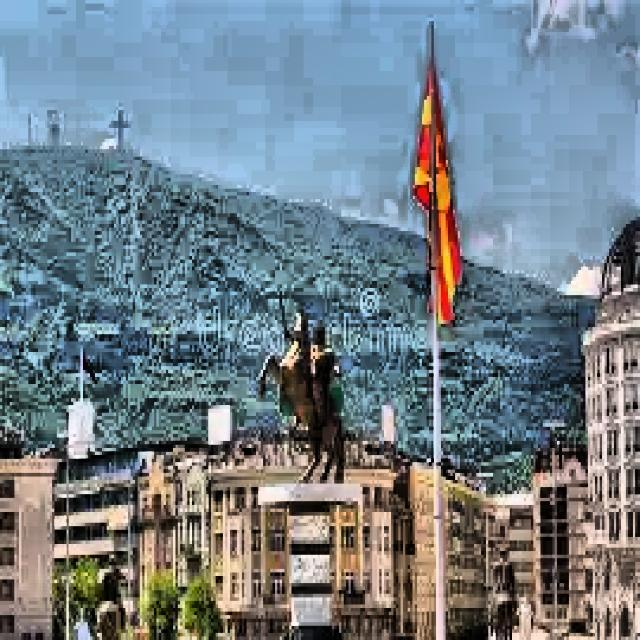alexander the great monument: (245, 296, 364, 634)
